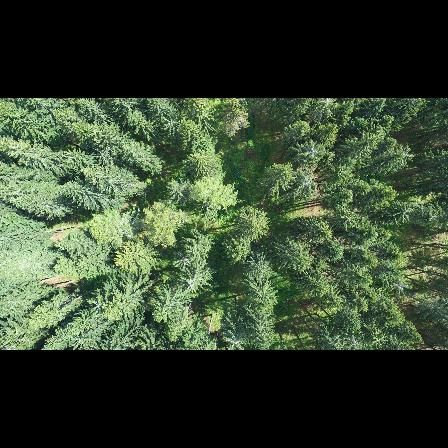Sick: (292, 171, 318, 199), (312, 98, 341, 117), (389, 275, 412, 297), (160, 113, 183, 133), (223, 331, 247, 350), (181, 273, 200, 295), (339, 208, 359, 228)
